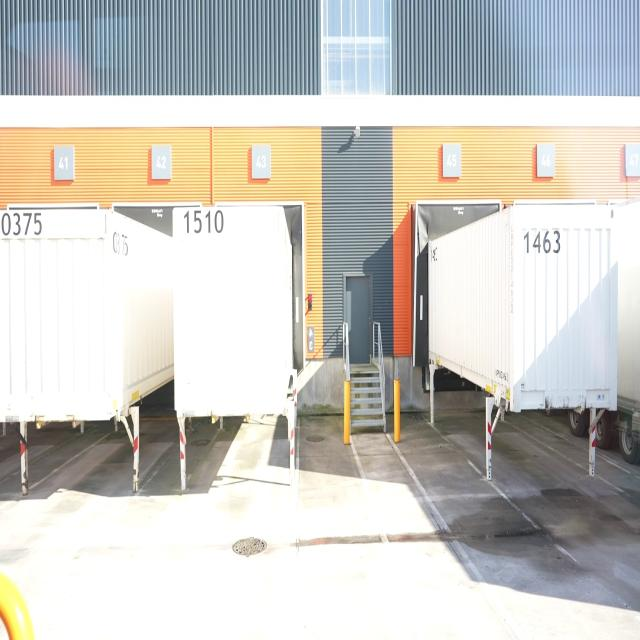Code: (180, 206, 230, 236), (521, 222, 562, 258), (1, 209, 43, 243)
